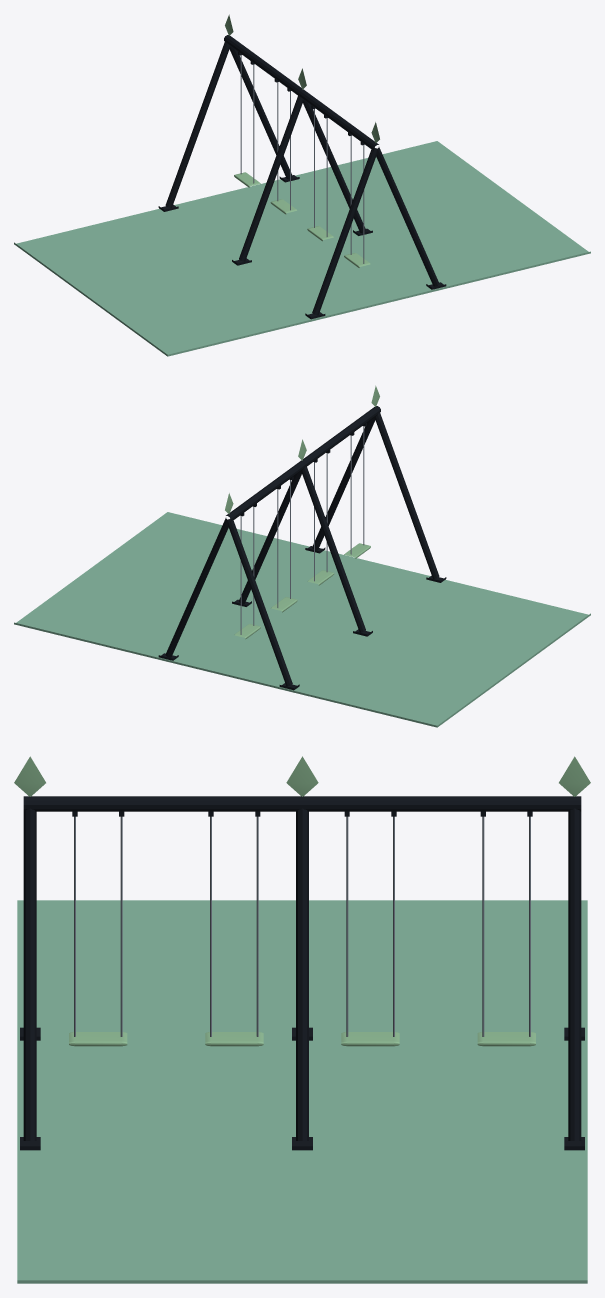
3 views of the same model, one above another, from view 1: azimuth 30°, elevation 25°; view 2: azimuth 150°, elevation 25°; view 3: azimuth 270°, elevation 25° (orthographic). The views are drawn at different scales.
Parts seen in each view (by area): view 1: Safety_Pad, Swing_Frame, Swing1_Chains; view 2: Safety_Pad, Swing_Frame, Swing4_Chains; view 3: Safety_Pad, Swing_Frame, Leaf_Crests, Swing1_Chains, Swing2_Chains, Swing3_Chains, Swing4_Chains, Swing1_Seat, Swing4_Seat, Swing2_Seat, Swing3_Seat.
Boxes of the visible parts, x1,y1,x2,y2 form: Safety_Pad: (14, 141, 590, 356); Swing_Frame: (158, 35, 446, 319); Swing1_Chains: (240, 55, 254, 183); Safety_Pad: (14, 512, 590, 727); Swing_Frame: (158, 406, 446, 690); Swing4_Chains: (350, 426, 364, 554); Safety_Pad: (17, 900, 587, 1283); Swing_Frame: (20, 796, 584, 1150); Leaf_Crests: (14, 756, 590, 796); Swing1_Chains: (482, 816, 530, 1036); Swing2_Chains: (346, 816, 394, 1036); Swing3_Chains: (210, 816, 258, 1036); Swing4_Chains: (74, 816, 122, 1036); Swing1_Seat: (477, 1032, 535, 1046); Swing4_Seat: (69, 1032, 127, 1046); Swing2_Seat: (341, 1032, 399, 1046); Swing3_Seat: (205, 1032, 263, 1046).
Size of what is drawn, in the model's own units: 7 by 2.86 by 4.45.
4 materials, 2 textured.
